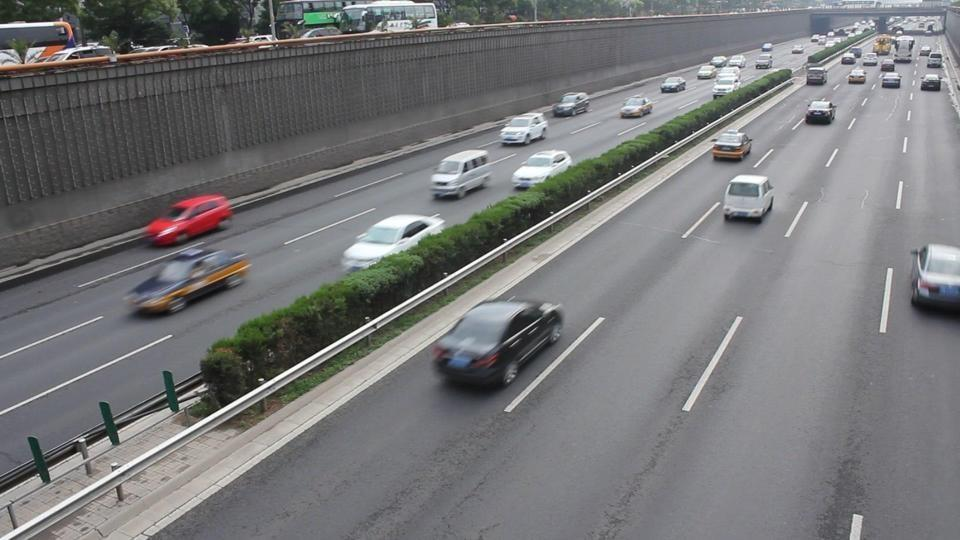car: (430, 297, 565, 390), (123, 247, 254, 317), (340, 213, 447, 272), (141, 193, 234, 247), (910, 242, 960, 313), (429, 148, 495, 201), (510, 148, 573, 192), (722, 172, 776, 222), (19, 43, 118, 68), (500, 114, 548, 145), (710, 128, 754, 161), (552, 92, 592, 117), (805, 98, 836, 125), (619, 96, 655, 119), (805, 66, 828, 86), (660, 77, 687, 94), (921, 74, 942, 92), (880, 70, 900, 88), (0, 50, 20, 66), (847, 69, 866, 85)
